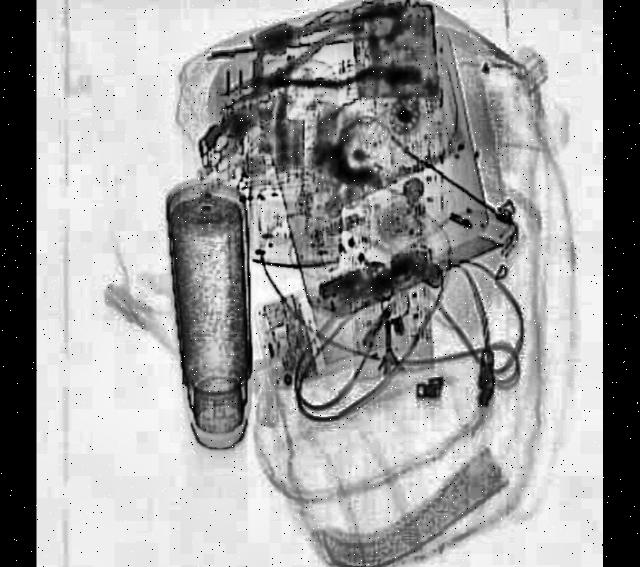Pliers: (216, 3, 421, 126)
